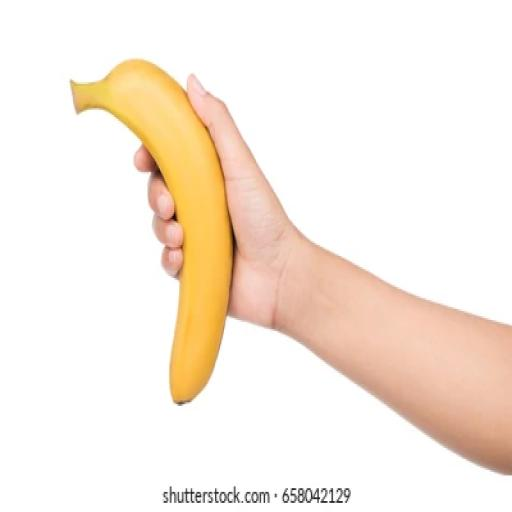banana: (71, 59, 232, 404)
